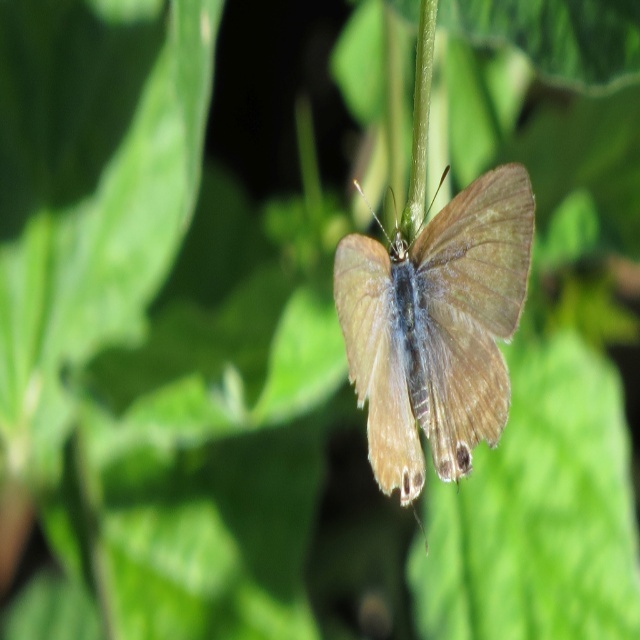Butterfly: (327, 125, 533, 524)
